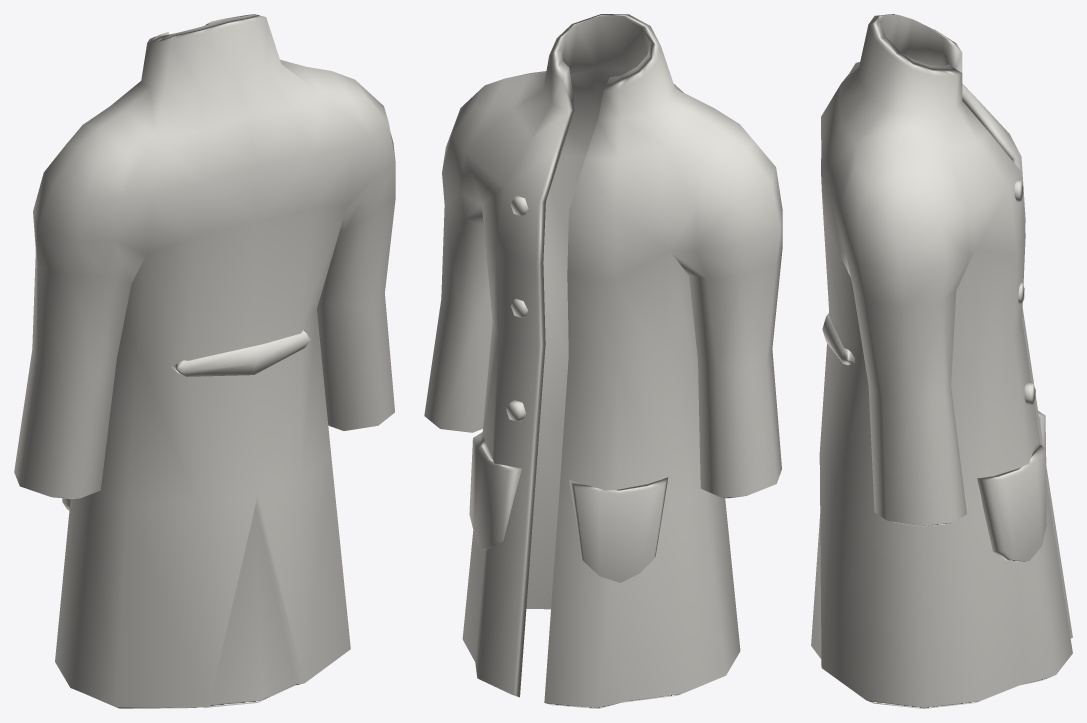
File: coat1.glb
The picture shows the model from 3 angles, left to right: view 1: azimuth 30°, elevation 25°; view 2: azimuth 150°, elevation 25°; view 3: azimuth 270°, elevation 25°; orthographic projection. The views are drawn at different scales.
Visible parts, largest first — view 1: node_id72; view 2: node_id72, node_id70; view 3: node_id72, node_id70.
Boxes of the visible parts, x1,y1,x2,y2 form: node_id72: [14, 14, 395, 708]; node_id72: [424, 14, 782, 708]; node_id70: [506, 195, 528, 421]; node_id72: [811, 14, 1072, 708]; node_id70: [1014, 180, 1035, 405].
Size of the model in its own units: 0.2997 by 0.512 by 0.1927.
Materials: 2 (2 with a texture image).
